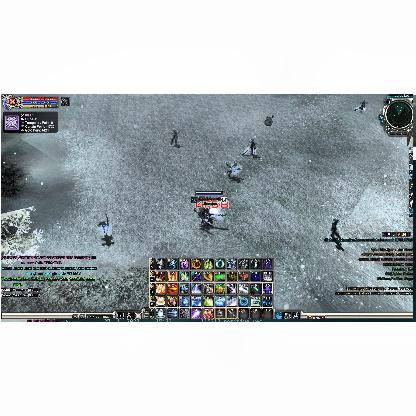caliana: (240, 140, 258, 158), (96, 214, 110, 235), (224, 161, 242, 177), (330, 220, 342, 238), (354, 100, 368, 114), (168, 129, 180, 145)
